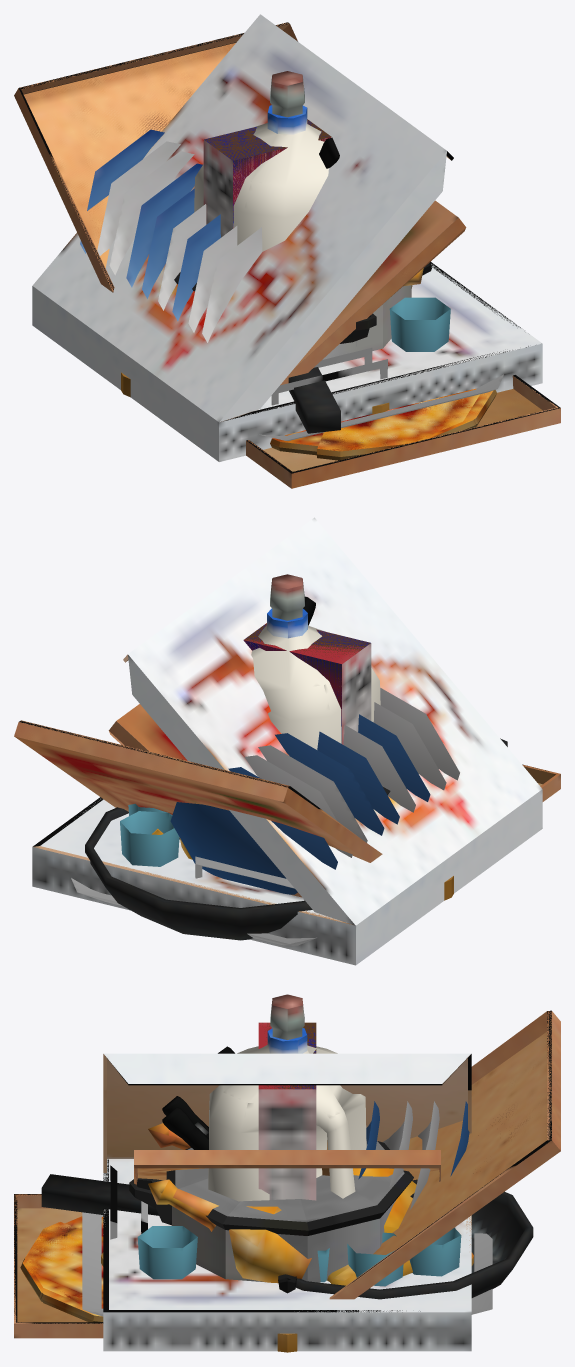
The model's file is FoodKitchenware_Models.fbx.
3 renders of one model, top to bottom at view 1: azimuth 30°, elevation 25°; view 2: azimuth 150°, elevation 25°; view 3: azimuth 270°, elevation 25°, orthographic.
Visible parts, largest first — view 1: Village_Box_Pizza, Kitchen_pizza_box_clean, Village_Plate_rack, Village_Box_Pizza_001, Kitchen_pizza_full, Village_Milk, Kitchen_pizza_box_semi_close_empty, Kitchen_pizza_half, Kitchen_pizza_quarter_eaten, Kitchen_Choco_Chumps_box, Kitchen_Chipsy_Chunks_box, Kitchen_pan (+5 smaller); view 2: Village_Box_Pizza, Village_Plate_rack, Village_Box_Pizza_001, Kitchen_pizza_box_clean, Kitchen_pizza_full, Village_Milk, Kitchen_pan, Kitchen_Choco_Chumps_box, Kitchen_pizza_box_semi_close_empty, Kitchen_Chipsy_Chunks_box, Kitchen_Choco_Munch_box, Village_Bottle; view 3: Village_Box_Pizza, Kitchen_pizza_box_clean, HouseProps_pot, Village_Box_Pizza_001, Village_Plate_rack, Village_Milk, Kitchen_pan, Village_Chicken, Kitchen_Choco_Chumps_box, Kitchen_pizza_half, Kitchen_pizza_box_semi_close_with_pizza, Kitchen_pizza_full (+6 smaller).
Part boxes in pixels (x1,y1,x2,y2): Village_Box_Pizza: (32, 14, 542, 461); Kitchen_pizza_box_clean: (14, 22, 560, 488); Village_Plate_rack: (80, 129, 503, 440); Village_Box_Pizza_001: (32, 264, 542, 461); Kitchen_pizza_full: (19, 23, 560, 485); Village_Milk: (194, 105, 328, 251); Kitchen_pizza_box_semi_close_empty: (280, 200, 465, 385); Kitchen_pizza_half: (21, 23, 479, 460); Kitchen_pizza_quarter_eaten: (48, 151, 556, 462); Kitchen_Choco_Chumps_box: (203, 137, 331, 237); Kitchen_Chipsy_Chunks_box: (204, 119, 331, 220); Kitchen_pan: (288, 367, 340, 433); Village_Box_Pizza: (32, 517, 542, 925); Village_Plate_rack: (71, 688, 459, 945); Village_Box_Pizza_001: (32, 789, 542, 965); Kitchen_pizza_box_clean: (14, 720, 560, 862); Kitchen_pizza_full: (14, 720, 555, 862); Village_Milk: (251, 608, 380, 749); Kitchen_pan: (85, 738, 507, 940); Kitchen_Choco_Chumps_box: (244, 623, 371, 744); Kitchen_pizza_box_semi_close_empty: (108, 704, 301, 897); Kitchen_Chipsy_Chunks_box: (244, 623, 370, 743); Kitchen_Choco_Munch_box: (243, 625, 370, 742); Village_Bottle: (270, 574, 304, 620); Village_Box_Pizza: (103, 1053, 471, 1351); Kitchen_pizza_box_clean: (14, 1010, 560, 1338); HouseProps_pot: (129, 1139, 417, 1282); Village_Box_Pizza_001: (103, 1159, 471, 1312); Village_Plate_rack: (82, 1101, 492, 1316); Village_Milk: (208, 1028, 366, 1201); Kitchen_pan: (41, 1174, 533, 1299); Village_Chicken: (148, 1123, 416, 1285); Kitchen_Choco_Chumps_box: (258, 1022, 316, 1200); Kitchen_pizza_half: (25, 1011, 551, 1304); Kitchen_pizza_box_semi_close_with_pizza: (134, 1150, 440, 1177); Kitchen_pizza_full: (14, 1011, 560, 1322).
Size of the model in its own units: 0.6423 by 0.5164 by 0.9413.
Materials: 3 (3 with a texture image).
